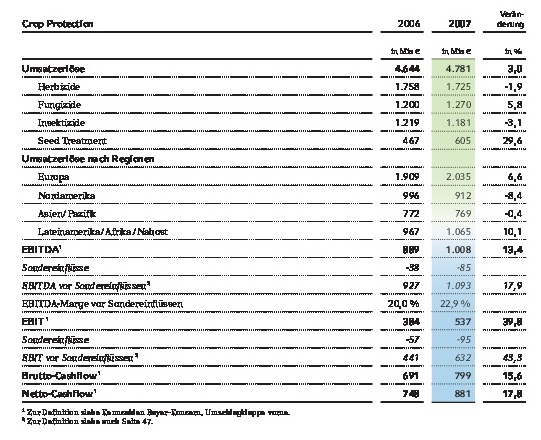table: (0, 0, 541, 440)
